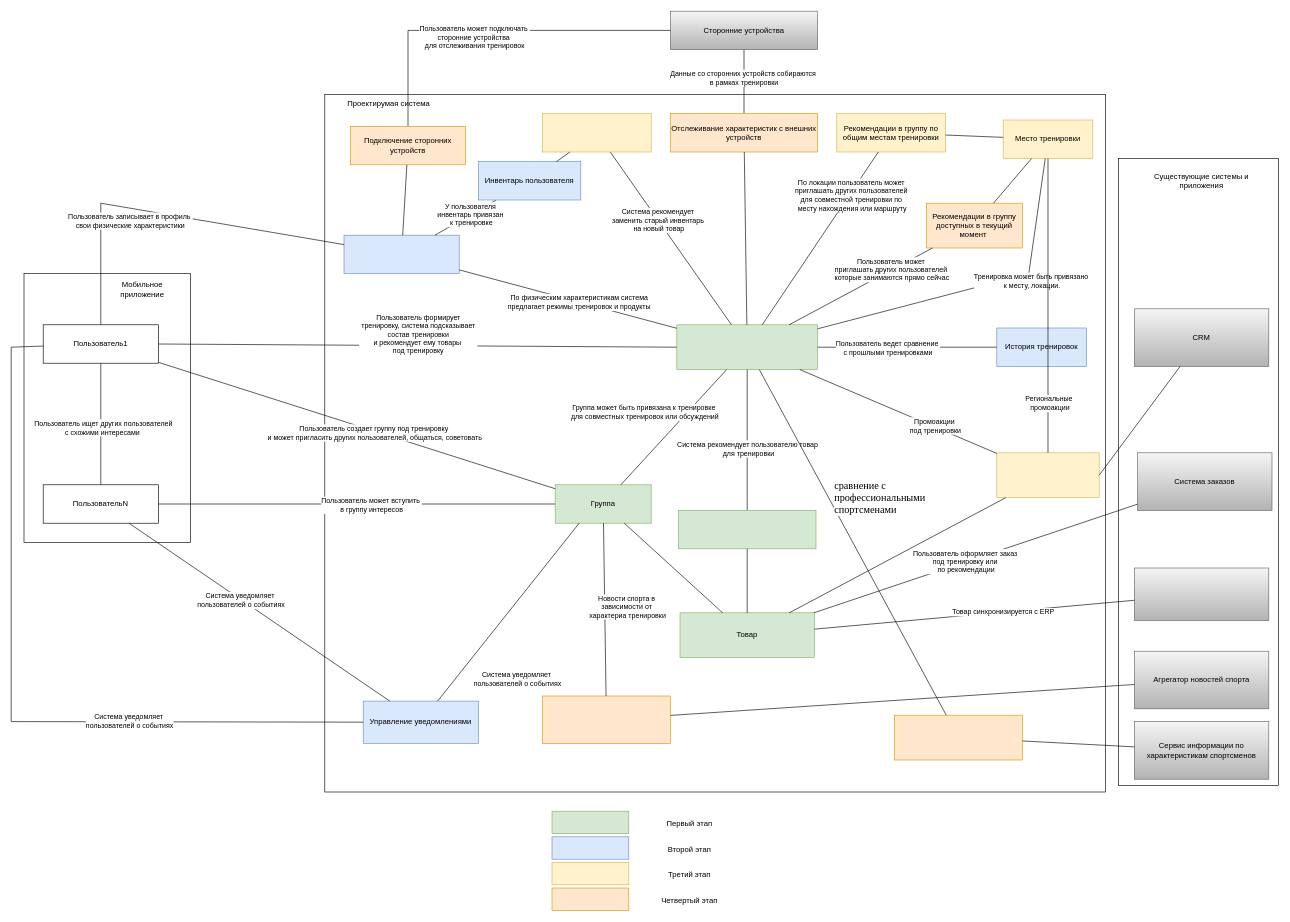
The diagram is 1290 pixels wide and 922 high, and some of its shapes have lost their labels. Each missing label, with the centre of its shape:
"ERP" goes at (1201,593).
"Промоакции" goes at (1047,475).
"Рекомендации по замене старого инвентаря" goes at (596,132).
"Рекомендации товаров" goes at (747,529).
"Социальная часть профиля пользователя" goes at (401,254).
"Сравнение с характеристиками спортсменов" goes at (958,737).
"Тренировка" goes at (747,347).
"Управление новостями спорта" goes at (606,719).
